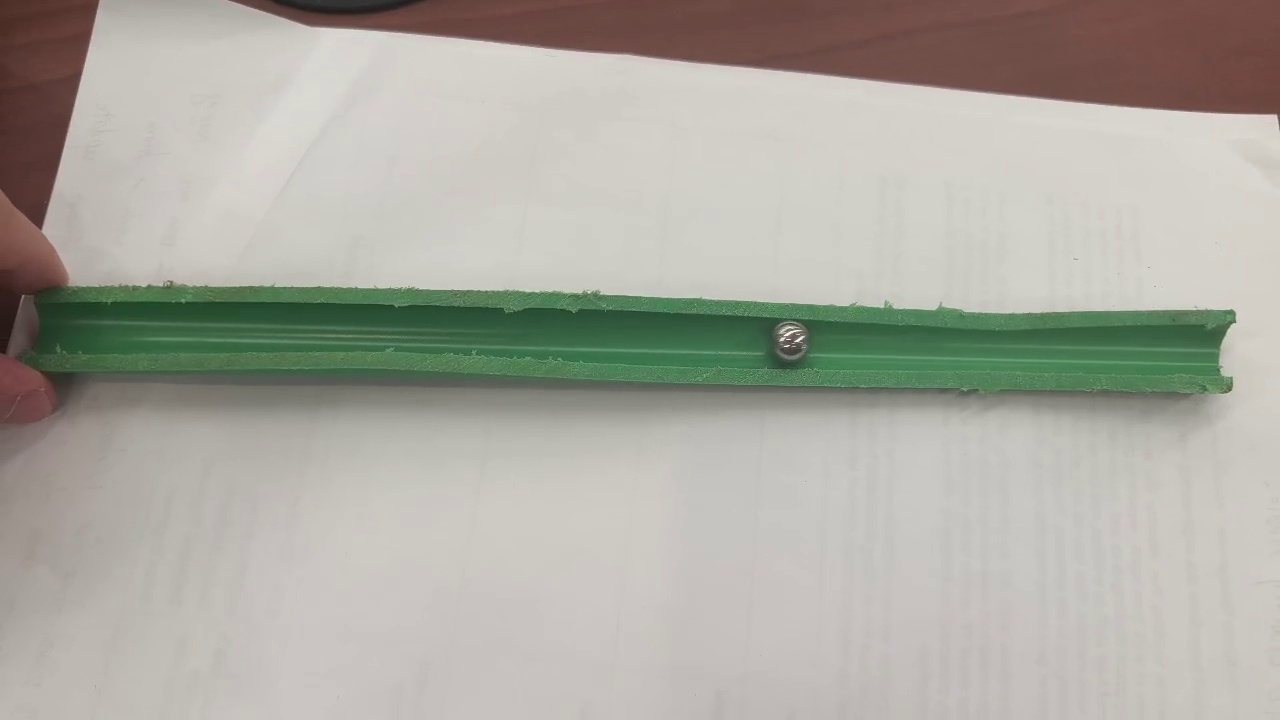ball: (774, 322, 809, 361)
